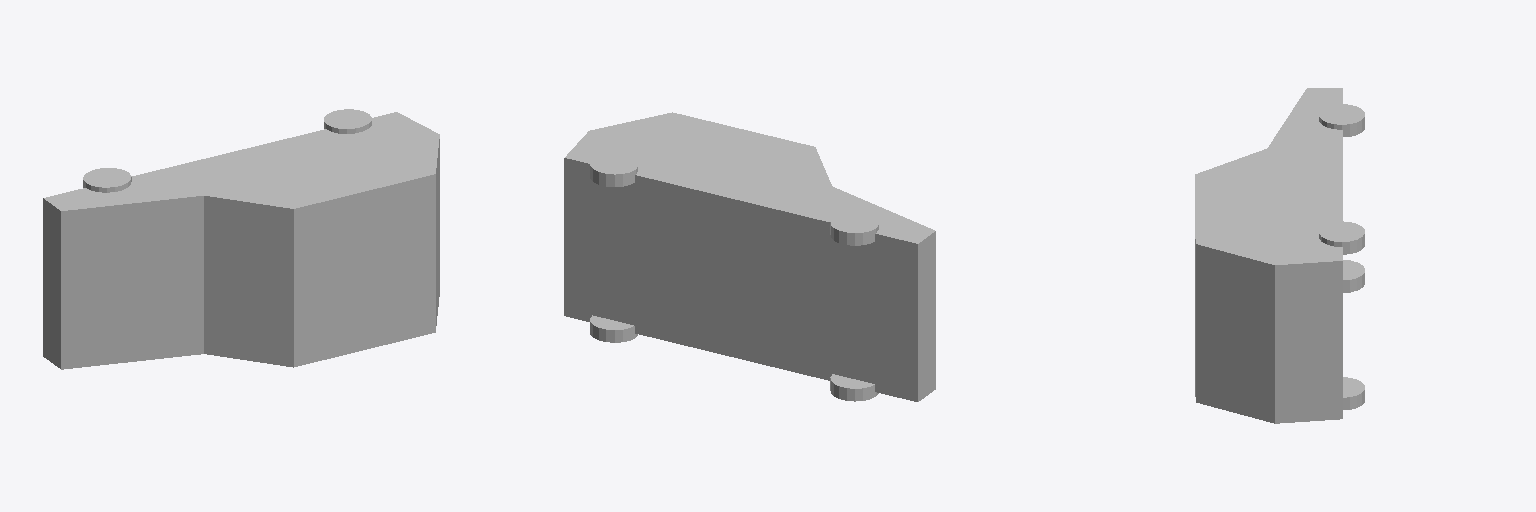
File: movingObject1.obj
The picture shows the model from 3 angles: view 1: azimuth 30°, elevation 25°; view 2: azimuth 150°, elevation 25°; view 3: azimuth 270°, elevation 25°; orthographic projection.
Parts seen in each view (by area): view 1: CAR_02; view 2: CAR_02; view 3: CAR_02.
Boxes of the visible parts, <box> form: CAR_02: <box>43,109,439,369</box>; CAR_02: <box>564,112,935,401</box>; CAR_02: <box>1195,88,1364,423</box>.
Bounding box in the file's own units: 1.24 × 0.5505 × 0.504.